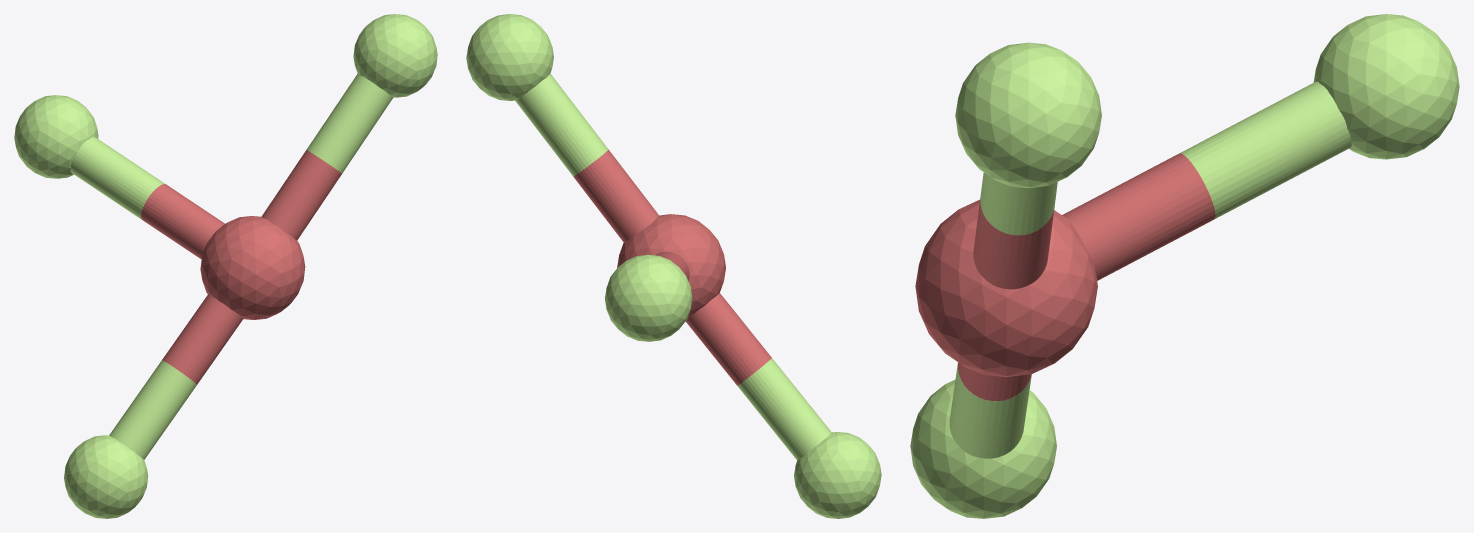
File: BrF3.glb
The picture shows the model from 3 angles, left to right: view 1: azimuth 30°, elevation 25°; view 2: azimuth 150°, elevation 25°; view 3: azimuth 270°, elevation 25°; orthographic projection. The views are drawn at different scales.
Parts seen in each view (by area): view 1: Shape_IndexedFaceSet.001, Shape_IndexedFaceSet.003, Shape_IndexedFaceSet, Shape_IndexedFaceSet.002, Shape_IndexedFaceSet.011, Shape_IndexedFaceSet.006, Shape_IndexedFaceSet.009, Shape_IndexedFaceSet.013, Shape_IndexedFaceSet.004, Shape_IndexedFaceSet.008; view 2: Shape_IndexedFaceSet.002, Shape_IndexedFaceSet, Shape_IndexedFaceSet.003, Shape_IndexedFaceSet.001, Shape_IndexedFaceSet.006, Shape_IndexedFaceSet.011, Shape_IndexedFaceSet.013, Shape_IndexedFaceSet.004; view 3: Shape_IndexedFaceSet.001, Shape_IndexedFaceSet, Shape_IndexedFaceSet.002, Shape_IndexedFaceSet.009, Shape_IndexedFaceSet.003, Shape_IndexedFaceSet.008, Shape_IndexedFaceSet.006, Shape_IndexedFaceSet.013, Shape_IndexedFaceSet.011, Shape_IndexedFaceSet.004.
Part boxes in pixels (box(x1,y1,x2,y2)): Shape_IndexedFaceSet.001: box(200, 216, 305, 319); Shape_IndexedFaceSet.003: box(64, 435, 148, 518); Shape_IndexedFaceSet: box(353, 14, 437, 97); Shape_IndexedFaceSet.002: box(14, 95, 98, 178); Shape_IndexedFaceSet.011: box(306, 73, 393, 173); Shape_IndexedFaceSet.006: box(109, 360, 196, 459); Shape_IndexedFaceSet.009: box(70, 137, 164, 219); Shape_IndexedFaceSet.013: box(261, 150, 341, 240); Shape_IndexedFaceSet.004: box(162, 294, 242, 384); Shape_IndexedFaceSet.008: box(141, 184, 224, 259); Shape_IndexedFaceSet.002: box(605, 254, 692, 341); Shape_IndexedFaceSet: box(466, 14, 553, 100); Shape_IndexedFaceSet.003: box(794, 432, 881, 518); Shape_IndexedFaceSet.001: box(617, 214, 725, 318); Shape_IndexedFaceSet.006: box(737, 358, 831, 460); Shape_IndexedFaceSet.011: box(515, 73, 608, 176); Shape_IndexedFaceSet.013: box(573, 149, 659, 242); Shape_IndexedFaceSet.004: box(685, 293, 771, 385); Shape_IndexedFaceSet.001: box(915, 199, 1097, 376); Shape_IndexedFaceSet: box(955, 42, 1101, 188); Shape_IndexedFaceSet.002: box(1313, 14, 1459, 159); Shape_IndexedFaceSet.009: box(1180, 81, 1351, 219); Shape_IndexedFaceSet.003: box(910, 379, 1056, 518); Shape_IndexedFaceSet.008: box(1062, 153, 1215, 280); Shape_IndexedFaceSet.006: box(949, 363, 1031, 458); Shape_IndexedFaceSet.013: box(973, 197, 1054, 289); Shape_IndexedFaceSet.011: box(980, 172, 1057, 235); Shape_IndexedFaceSet.004: box(958, 362, 1031, 401).
Bounding box in the file's own units: 2.39 × 2.52 × 1.74.
